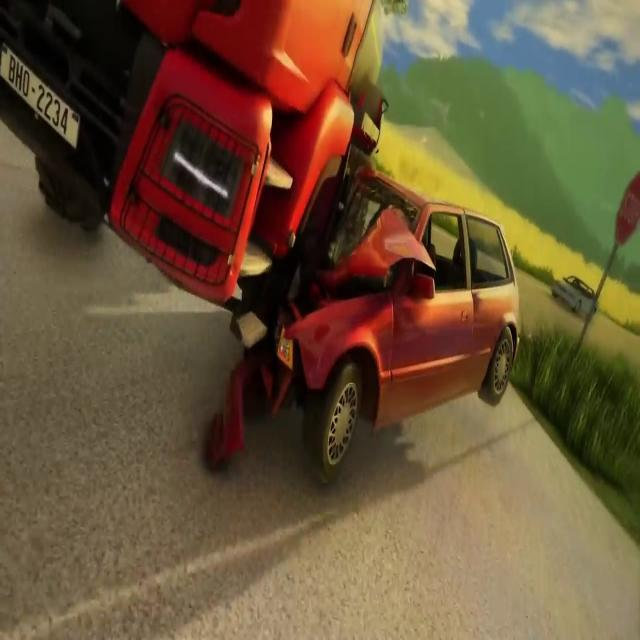accident: (77, 90, 521, 483)
